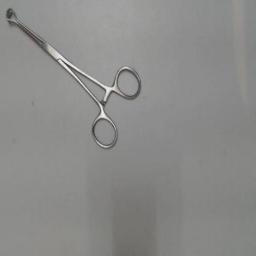Babcock Tissue Forceps: (4, 6, 144, 152)
